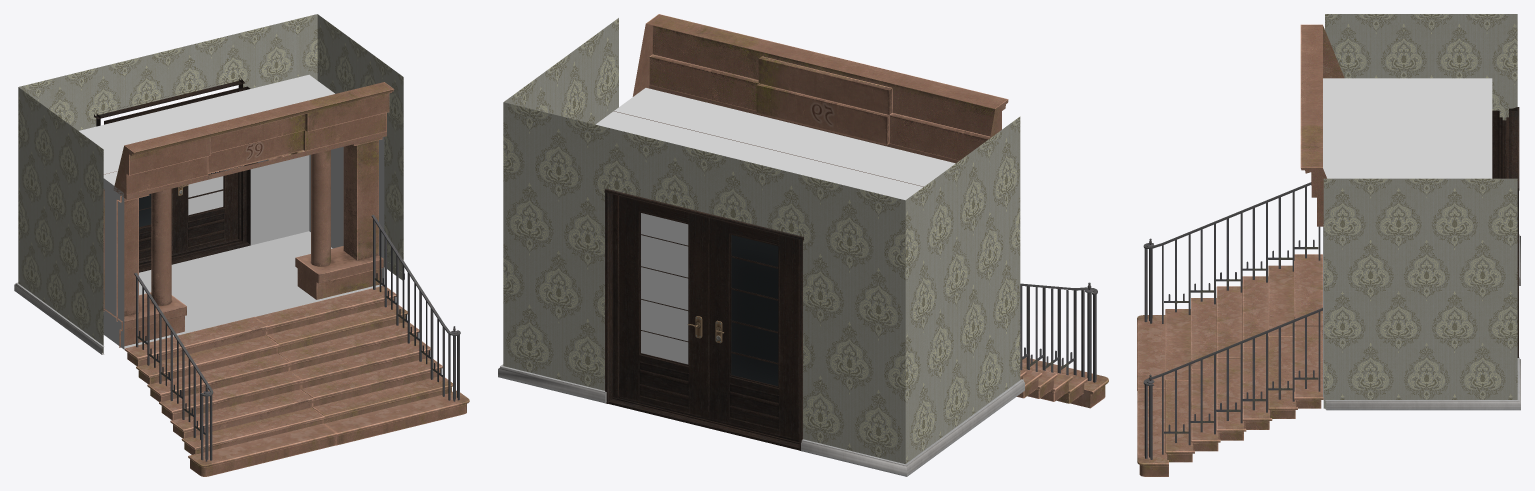
File: Porch_05.fbx
3 views of the same model, side by side, from view 1: azimuth 30°, elevation 25°; view 2: azimuth 150°, elevation 25°; view 3: azimuth 270°, elevation 25° (orthographic). The views are drawn at different scales.
Visible parts, largest first — view 1: Porch_05_LOD0, Porch_05_Door_LOD0; view 2: Porch_05_LOD0, Porch_05_Door_LOD0; view 3: Porch_05_LOD0.
Boxes of the visible parts, box(x1,y1,x2,y2) form: Porch_05_LOD0: box(14, 14, 469, 476); Porch_05_Door_LOD0: box(171, 88, 238, 253); Porch_05_LOD0: box(498, 14, 1108, 476); Porch_05_Door_LOD0: box(619, 196, 709, 418); Porch_05_LOD0: box(1137, 14, 1520, 476).
Size of what is drawn, in the model's own units: 468 by 400 by 453.
